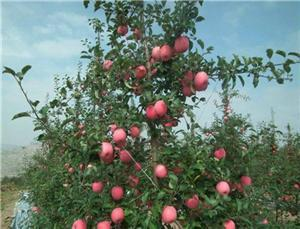apple: (98, 141, 114, 160), (193, 71, 209, 89), (120, 148, 135, 164), (155, 100, 168, 118), (163, 205, 176, 223), (175, 37, 190, 52), (111, 207, 125, 223), (113, 128, 127, 143), (159, 44, 172, 59), (186, 195, 199, 210), (215, 181, 229, 193), (155, 164, 167, 178), (145, 105, 157, 119), (111, 184, 123, 198), (115, 22, 127, 35), (224, 218, 235, 229), (215, 148, 226, 159)
